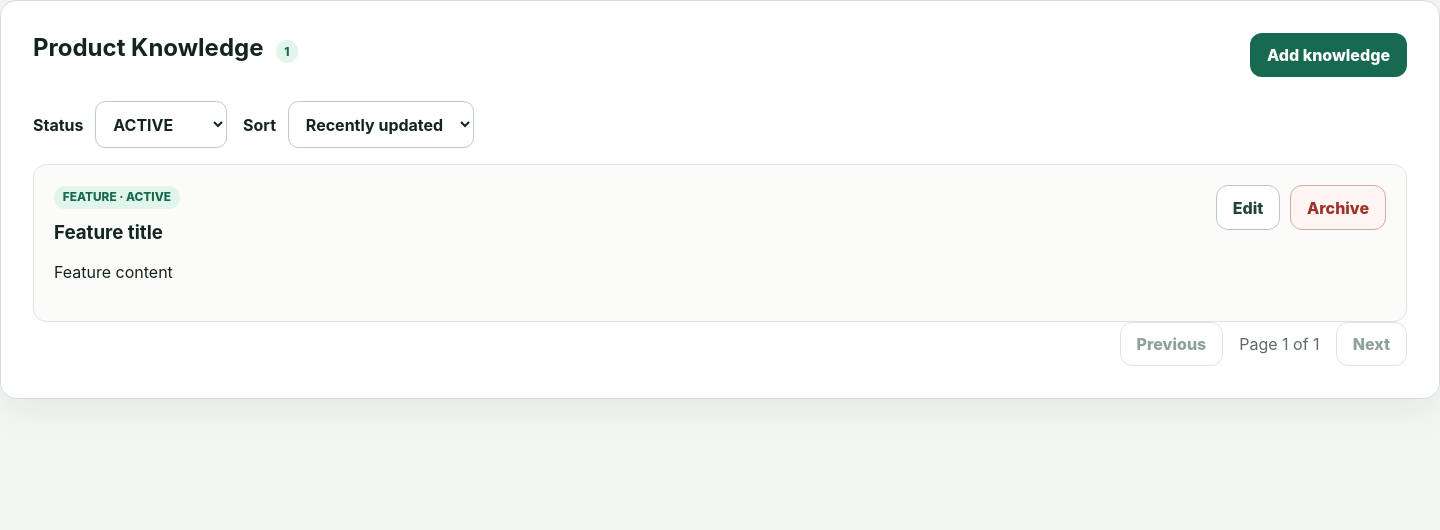
Scenario: KnowledgeTab › offers reload on concurrency status 409
The width and height of the screenshot is (1440, 530).
Check: the heading "Feature title" is shown, box [54,221,180,244]
Click the button "Archive" at (1338, 208), box [1290,185,1386,230]
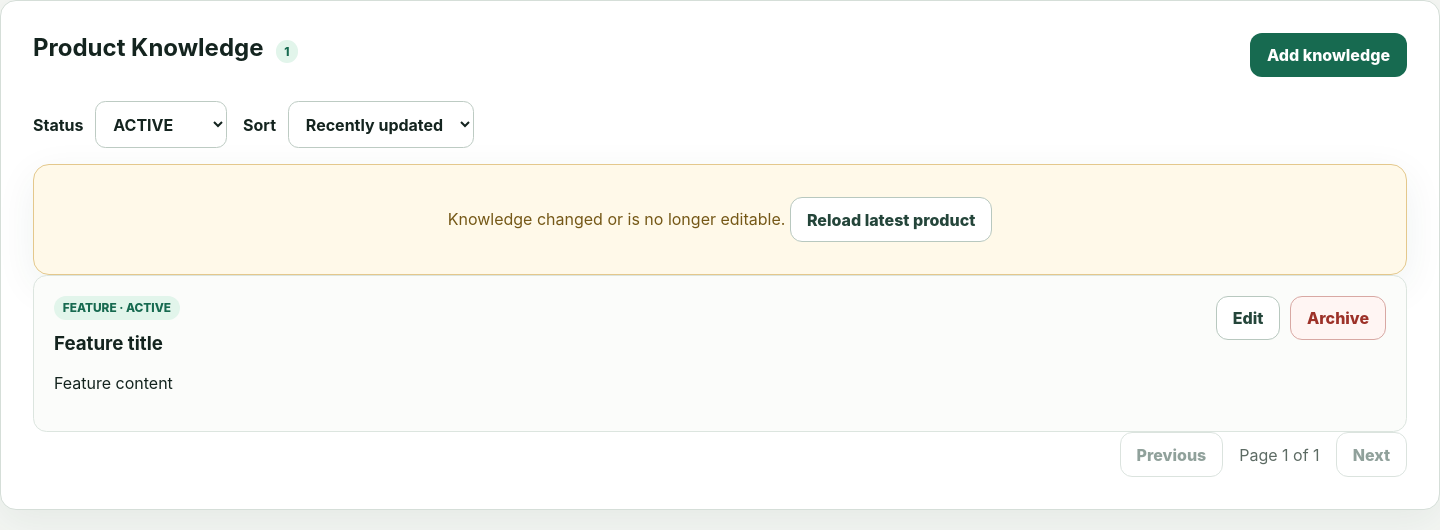
Check: the message shows "changed or is no longer editable", box [448,210,790,230]
